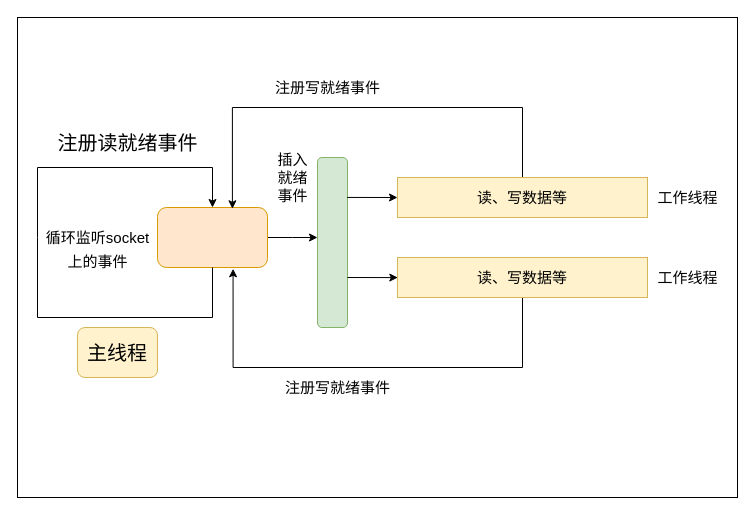
The diagram is 755 pixels wide and 515 high, and some of its shapes have lost their labels. The box of each missing label's shape, as (x1, y1, x2, y2) in pixels:
epoll_wait(): (156, 206, 268, 268)
请求队列: (316, 156, 348, 328)
